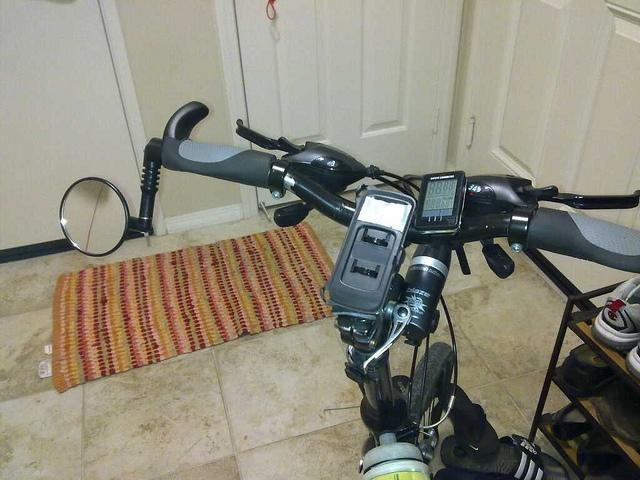bicycle: (59, 104, 640, 480)
